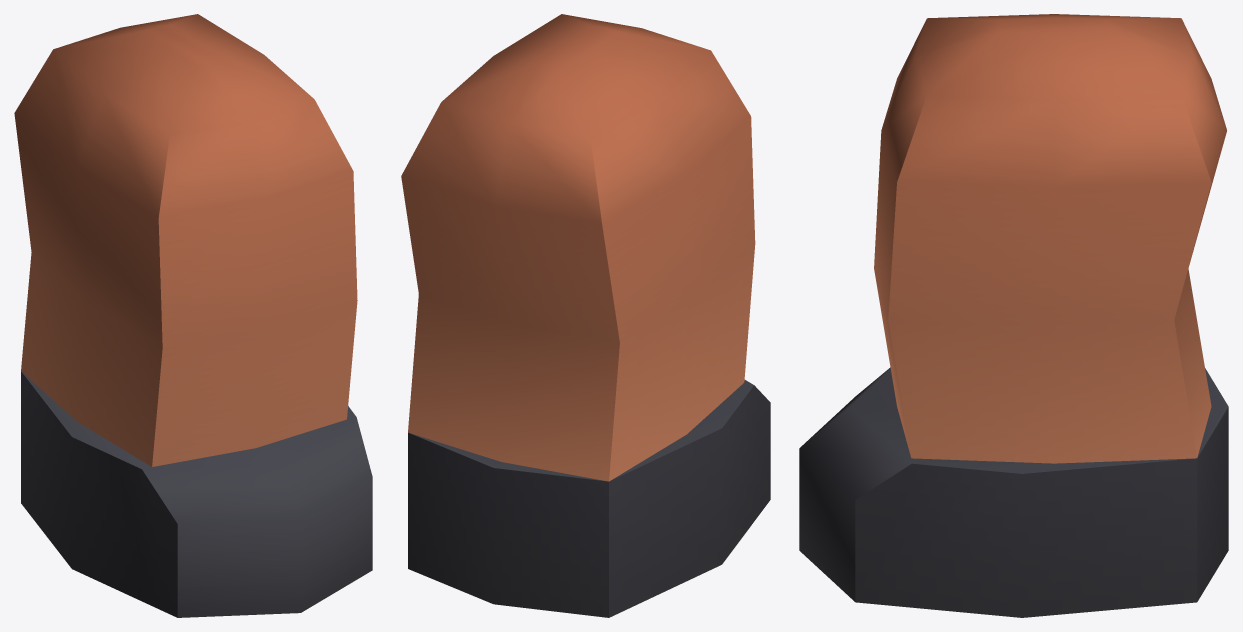
The model's file is leg-left_lev2.glb.
3 renders of one model, left to right at view 1: azimuth 30°, elevation 25°; view 2: azimuth 150°, elevation 25°; view 3: azimuth 270°, elevation 25°, orthographic. The views are drawn at different scales.
Parts seen in each view (by area): view 1: leg-left_lev2; view 2: leg-left_lev2; view 3: leg-left_lev2.
Part boxes in pixels (x1=…): leg-left_lev2: x1=14, y1=14, x2=372, y2=617; leg-left_lev2: x1=401, y1=14, x2=770, y2=617; leg-left_lev2: x1=799, y1=14, x2=1228, y2=617.
Size of the model in its own units: 0.1384 by 0.2512 by 0.1863.
Materials: 1 (1 with a texture image).
